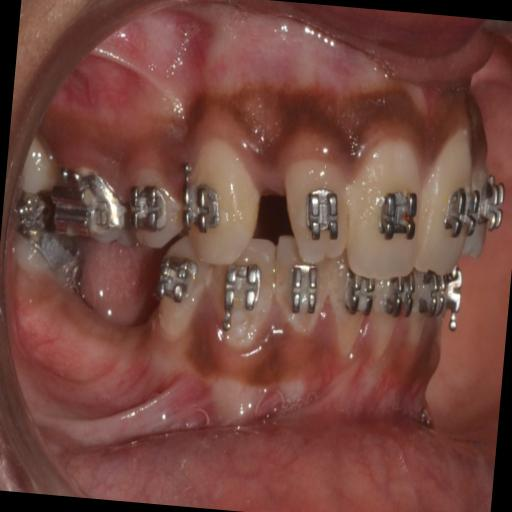correct_brace: (174, 158, 228, 242), (300, 180, 345, 250), (376, 180, 422, 246)
incorrect_brace: (276, 150, 356, 270)
